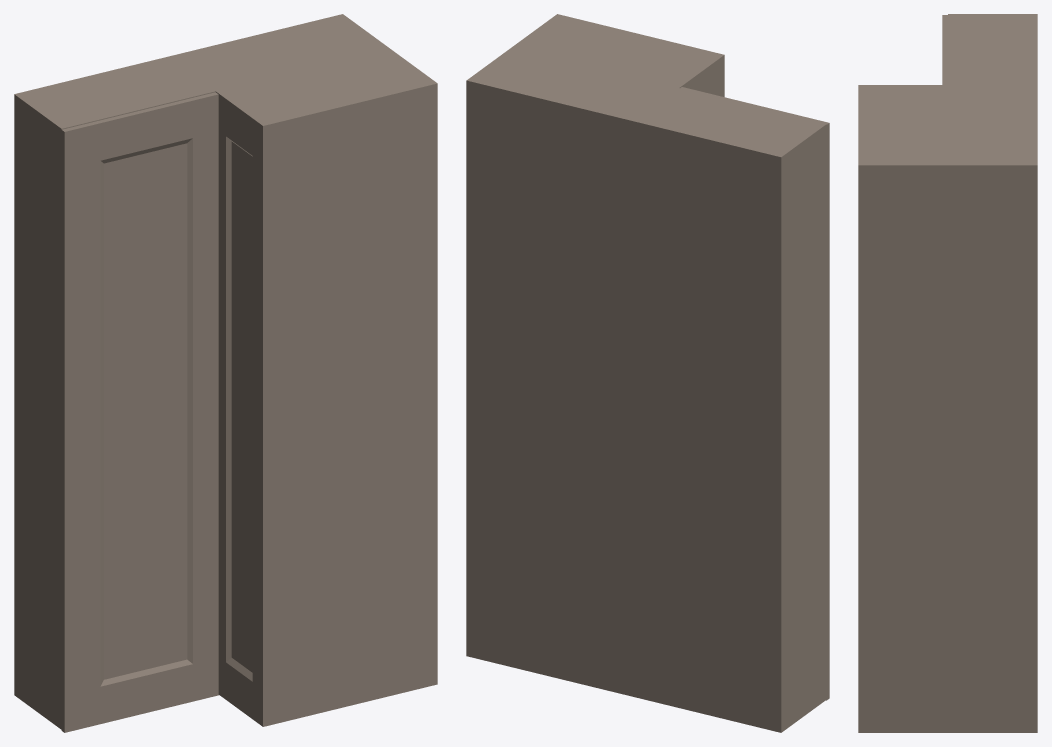
Rendered from Wall-Cabinet-Easy-Reach-12-Deep_std_001_H42in_onlyH.glb.
The picture shows the model from 3 angles, left to right: view 1: azimuth 30°, elevation 25°; view 2: azimuth 150°, elevation 25°; view 3: azimuth 270°, elevation 25°; orthographic projection. The views are drawn at different scales.
Visible parts, largest first — view 1: Wall-Cabinet-Easy-Reach-12-Deep.std.001_H42in_onlyH; view 2: Wall-Cabinet-Easy-Reach-12-Deep.std.001_H42in_onlyH; view 3: Wall-Cabinet-Easy-Reach-12-Deep.std.001_H42in_onlyH.
Part boxes in pixels (x1,y1,x2,y2): Wall-Cabinet-Easy-Reach-12-Deep.std.001_H42in_onlyH: (14,14,437,732); Wall-Cabinet-Easy-Reach-12-Deep.std.001_H42in_onlyH: (466,14,829,732); Wall-Cabinet-Easy-Reach-12-Deep.std.001_H42in_onlyH: (858,14,1037,732).
Size of the model in its own units: 0.6096 by 1.07 by 0.3048.
